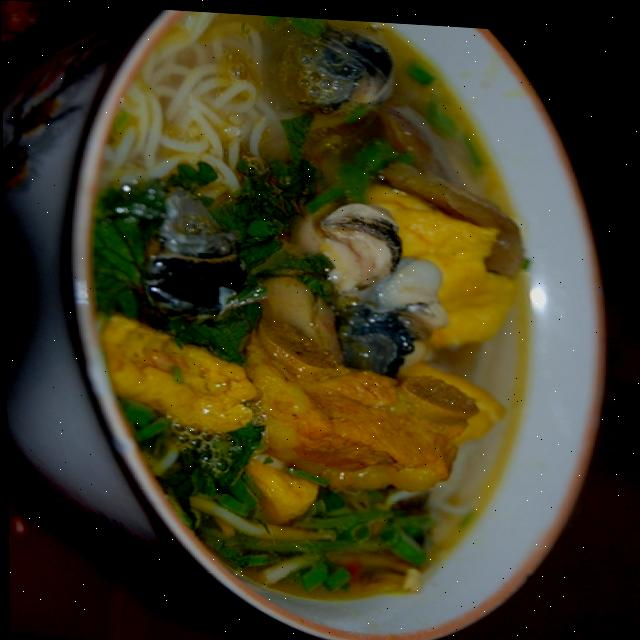面条主食: (0, 0, 635, 640)
